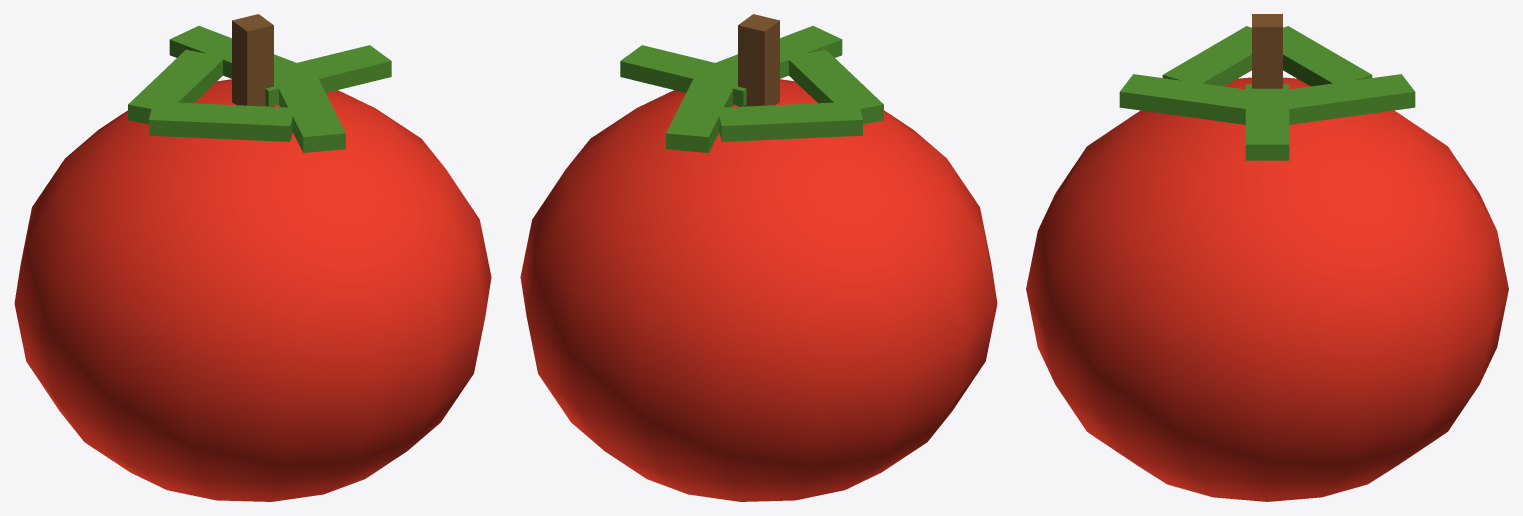
The model's file is tomato.glb.
The picture shows the model from 3 angles, left to right: view 1: azimuth 30°, elevation 25°; view 2: azimuth 150°, elevation 25°; view 3: azimuth 270°, elevation 25°; orthographic projection.
Visible parts, largest first — view 1: Tomato, Tomato leaf.002, Tomato leaf, Tomato leaf.003, Tomato stem, Tomato leaf.001, Tomato leaf.004; view 2: Tomato, Tomato leaf.003, Tomato leaf, Tomato leaf.002, Tomato leaf.004, Tomato stem, Tomato leaf.001; view 3: Tomato, Tomato leaf.001, Tomato leaf.004, Tomato leaf, Tomato leaf.002, Tomato leaf.003, Tomato stem.
Part boxes in pixels (x1,y1,x2,y2): Tomato: (14,79,491,501); Tomato leaf.002: (149,101,294,141); Tomato leaf: (265,45,391,106); Tomato leaf.003: (128,49,224,124); Tomato stem: (232,14,273,106); Tomato leaf.001: (278,75,345,152); Tomato leaf.004: (169,26,303,78); Tomato: (520,79,997,501); Tomato leaf.003: (718,102,862,141); Tomato leaf: (620,45,746,106); Tomato leaf.002: (787,49,883,124); Tomato leaf.004: (666,74,737,152); Tomato stem: (738,14,779,106); Tomato leaf.001: (715,26,842,78); Tomato: (1026,77,1508,501); Tomato leaf.001: (1119,74,1266,124); Tomato leaf.004: (1268,74,1415,124); Tomato leaf: (1245,84,1289,160); Tomato leaf.002: (1162,26,1251,86); Tomato leaf.003: (1283,26,1372,86); Tomato stem: (1252,14,1282,88).
Size of the model in its own units: 0.22 by 0.23 by 0.22.
